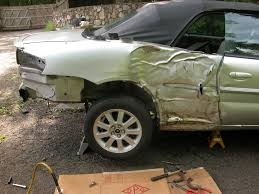Dent: (127, 44, 223, 132), (15, 48, 86, 123)
